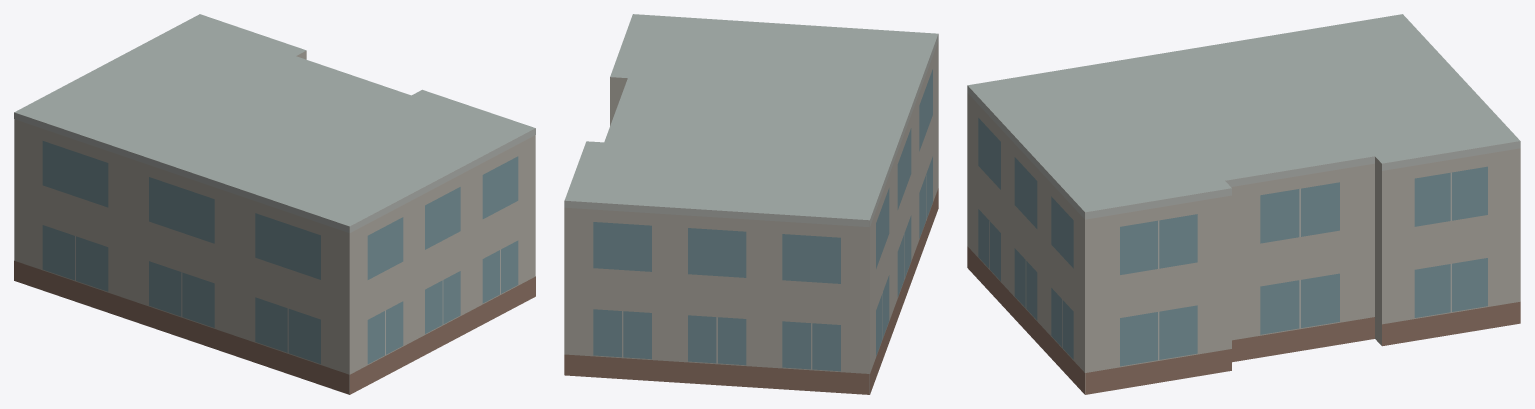
The model's file is survey-upis-32721267.glb.
The picture shows the model from 3 angles, left to right: view 1: azimuth 30°, elevation 25°; view 2: azimuth 150°, elevation 25°; view 3: azimuth 270°, elevation 25°; orthographic projection. The views are drawn at different scales.
Visible parts, largest first — view 1: survey-upis-32721267.tmp; view 2: survey-upis-32721267.tmp; view 3: survey-upis-32721267.tmp.
Boxes of the visible parts, x1,y1,x2,y2 form: survey-upis-32721267.tmp: (14, 14, 535, 394); survey-upis-32721267.tmp: (564, 14, 938, 394); survey-upis-32721267.tmp: (967, 14, 1520, 394).
Bounding box in the file's own units: 14.23 × 6.1 × 16.77.
